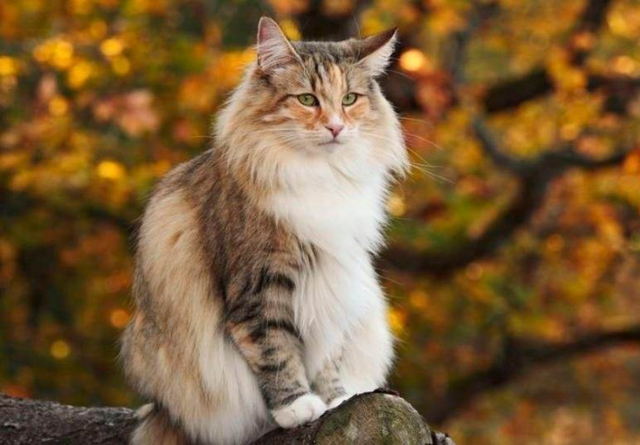cat: (111, 11, 422, 445)
